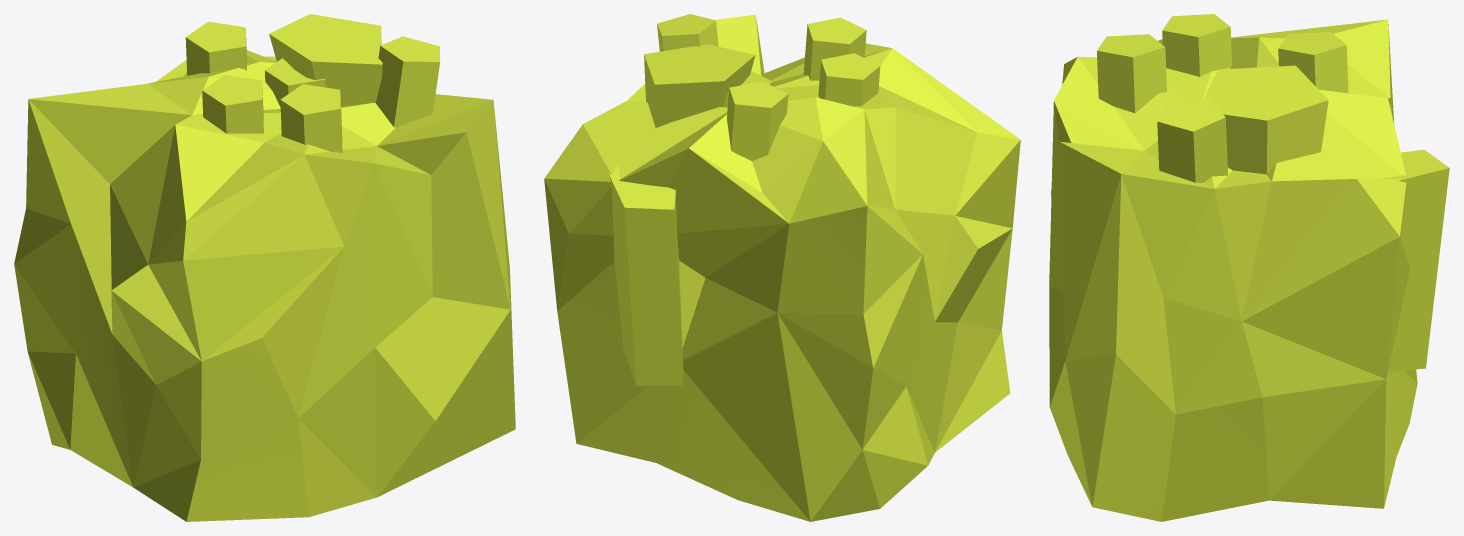
The model's file is resources_scandium.fbx.
3 views of the same model, side by side, from view 1: azimuth 30°, elevation 25°; view 2: azimuth 150°, elevation 25°; view 3: azimuth 270°, elevation 25° (orthographic). The views are drawn at different scales.
Parts seen in each view (by area): view 1: resources_scandium; view 2: resources_scandium; view 3: resources_scandium.
Part boxes in pixels (x1,y1,x2,y2): resources_scandium: (14, 14, 515, 521); resources_scandium: (544, 14, 1020, 521); resources_scandium: (1049, 14, 1449, 521).
Size of the model in its own units: 196 by 200 by 181.
